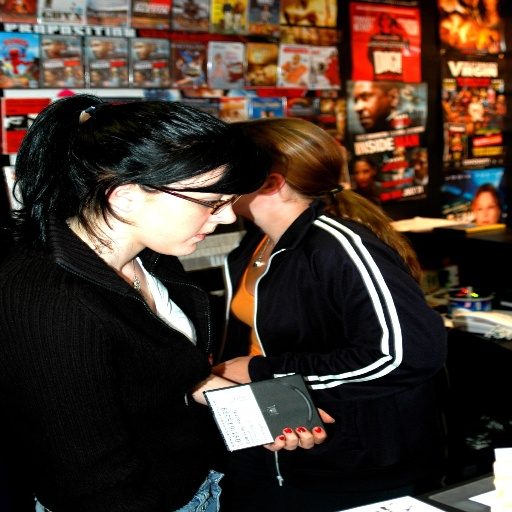hand: (267, 408, 337, 450), (208, 353, 250, 382)
